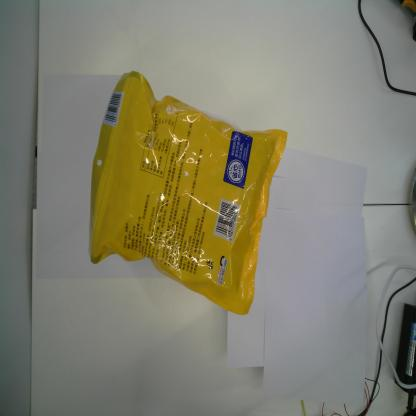Dried Food: (88, 70, 288, 315)
